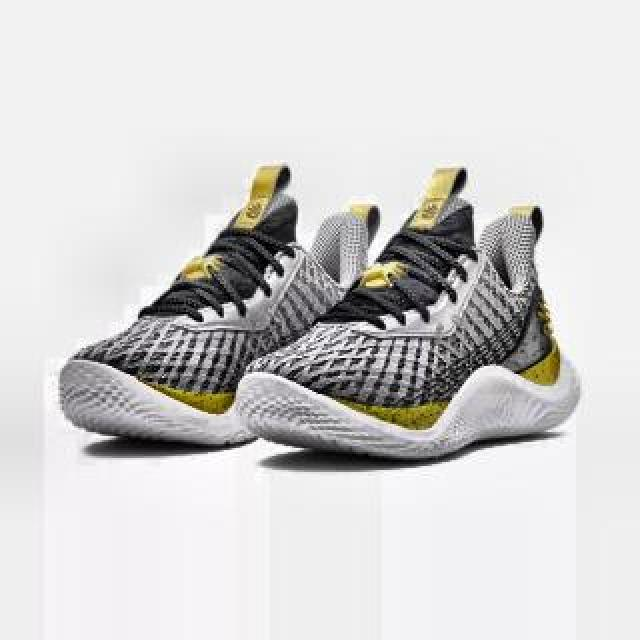shoe: (236, 165, 582, 461), (58, 164, 412, 446)
